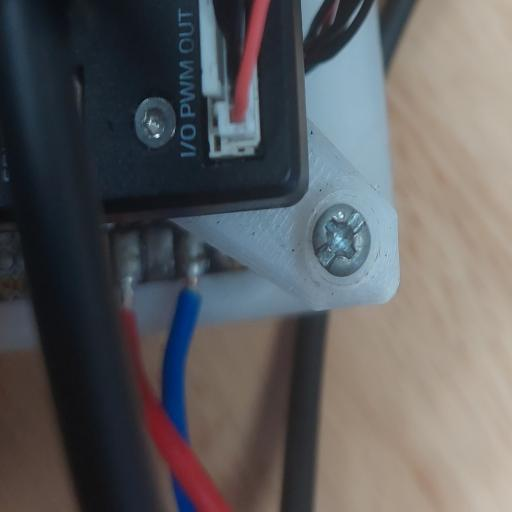Hex-Allen: (133, 96, 178, 148)
Phillips: (312, 205, 371, 276)
